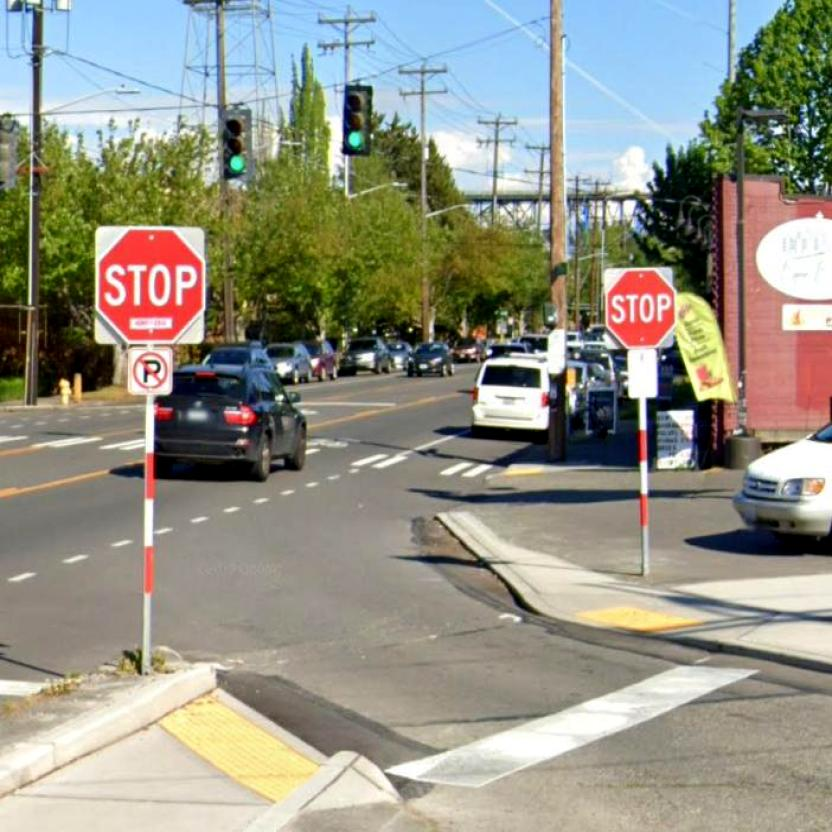Pole: (142, 394, 153, 674), (639, 400, 650, 574)
Sign: (97, 223, 201, 345), (608, 272, 673, 342)
